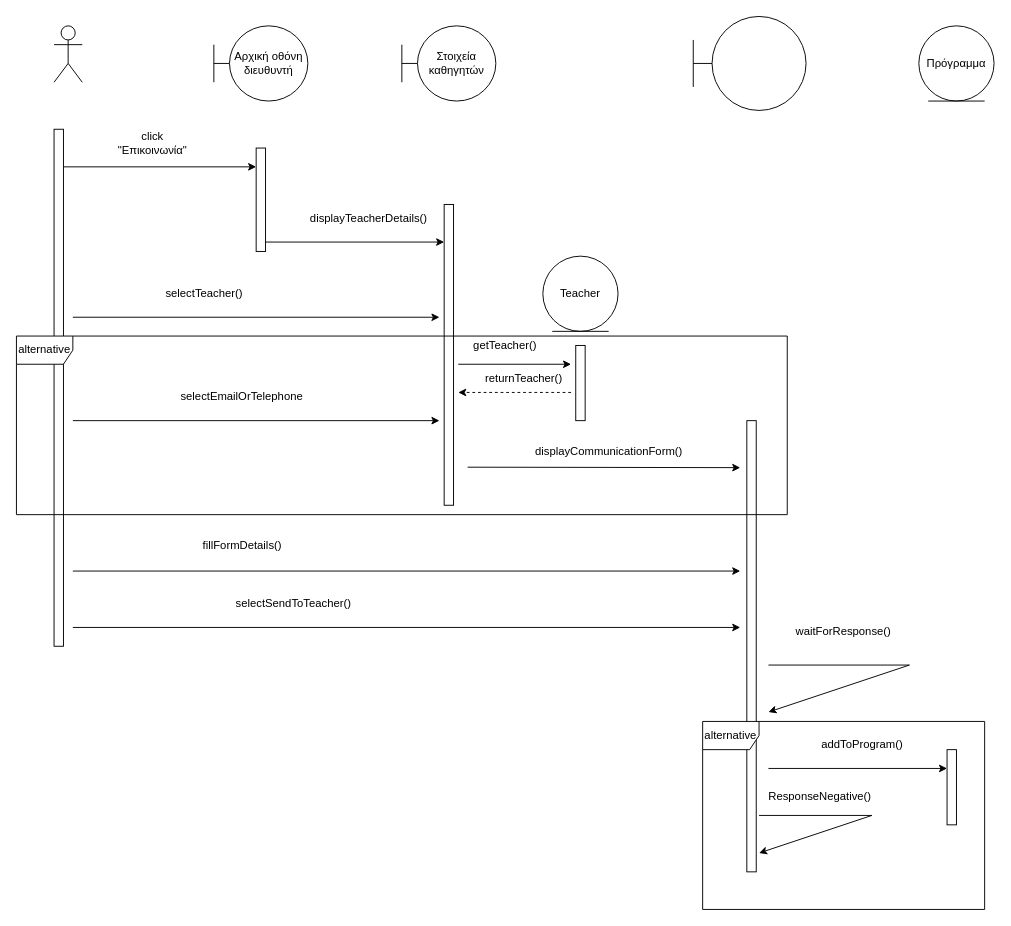
Image size: 1011x926. Some labels were removed from this diagram. The centre of each missing label's shape, as x and y in pixels:
Διευθυντής: (x=67, y=53)
Φόρμα λόγου επικοινωνίας και προτεινόμενη μέρα και ώρα συνάντησης: (x=749, y=63)
